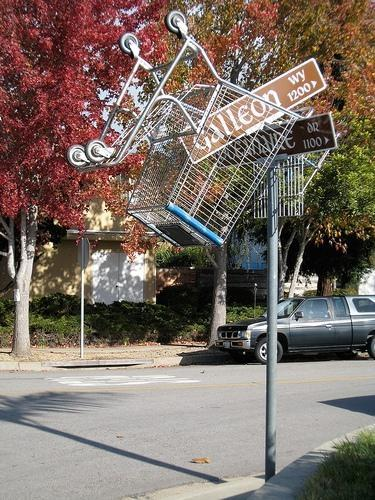car: (215, 295, 375, 363)
